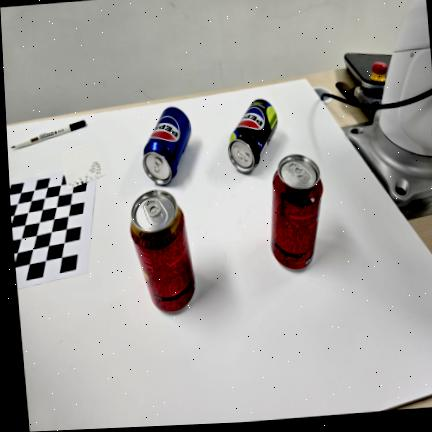can_coke_decaf: (130, 190, 195, 312)
can_coke_zero: (271, 154, 323, 269)
can_pepsi: (143, 107, 191, 184)
can_pepsi_zero: (228, 99, 277, 173)
